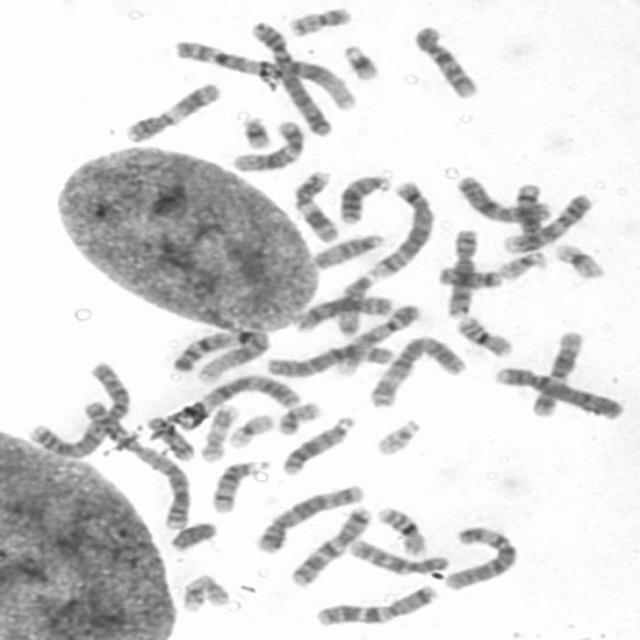A1: (171, 38, 360, 113), (167, 326, 271, 384)
A2: (77, 398, 192, 532), (24, 357, 132, 458)
A3: (162, 371, 304, 432), (365, 332, 468, 410)
B4: (246, 16, 335, 139), (491, 364, 624, 421)
B5: (252, 482, 367, 554), (366, 178, 434, 279)
C10: (411, 22, 480, 101), (345, 536, 452, 577)
C11: (121, 80, 222, 144), (290, 168, 340, 242)
C12: (526, 326, 587, 418), (230, 116, 305, 172)
C6: (439, 522, 520, 591), (260, 340, 395, 379)
C7: (286, 502, 373, 588), (311, 582, 439, 628)
C8: (289, 292, 394, 334), (442, 225, 481, 319)
C9: (331, 302, 422, 376), (497, 190, 595, 254)
D13: (278, 413, 356, 476), (334, 170, 392, 225)
D14: (208, 456, 271, 514), (516, 179, 549, 271)
D15: (309, 230, 388, 270), (332, 270, 378, 337)
E16: (372, 503, 428, 557), (453, 311, 516, 358)
E17: (198, 402, 240, 464), (179, 571, 232, 614)
E18: (144, 413, 195, 462), (436, 264, 504, 290)
F19: (550, 240, 606, 280), (224, 410, 275, 450)
F20: (285, 4, 353, 38), (275, 400, 323, 436)
G21: (339, 41, 381, 82), (238, 113, 274, 150)
G22: (372, 416, 424, 457), (494, 249, 550, 280)
X: (453, 172, 553, 225)
Y: (166, 518, 218, 553)
